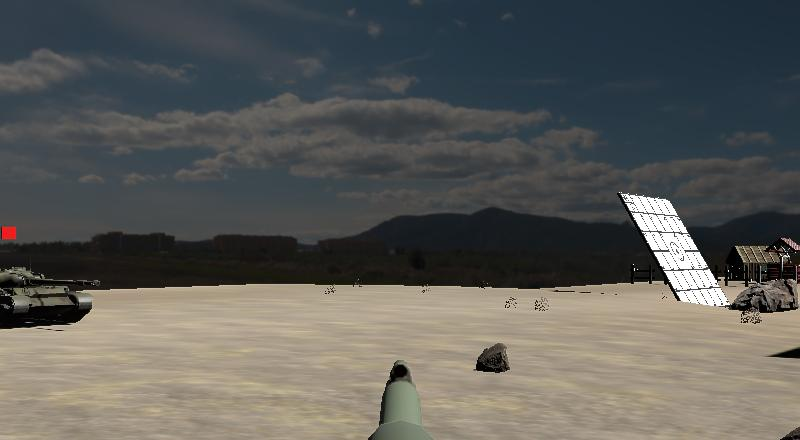House: (718, 237, 799, 292)
Tank: (0, 257, 103, 334)
